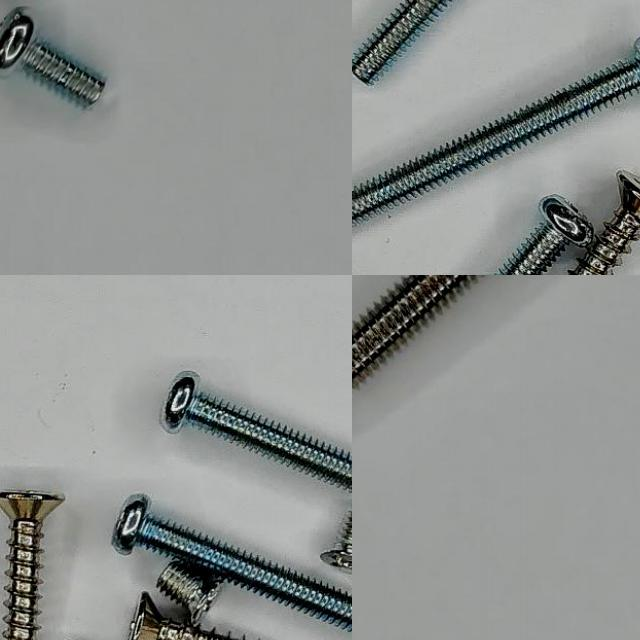Screw: (352, 38, 640, 225), (111, 495, 352, 633), (161, 372, 352, 491), (352, 275, 477, 389), (0, 9, 104, 107), (0, 491, 64, 640), (494, 196, 594, 275), (568, 173, 640, 275), (127, 594, 243, 640), (156, 560, 223, 627), (320, 511, 352, 573)
